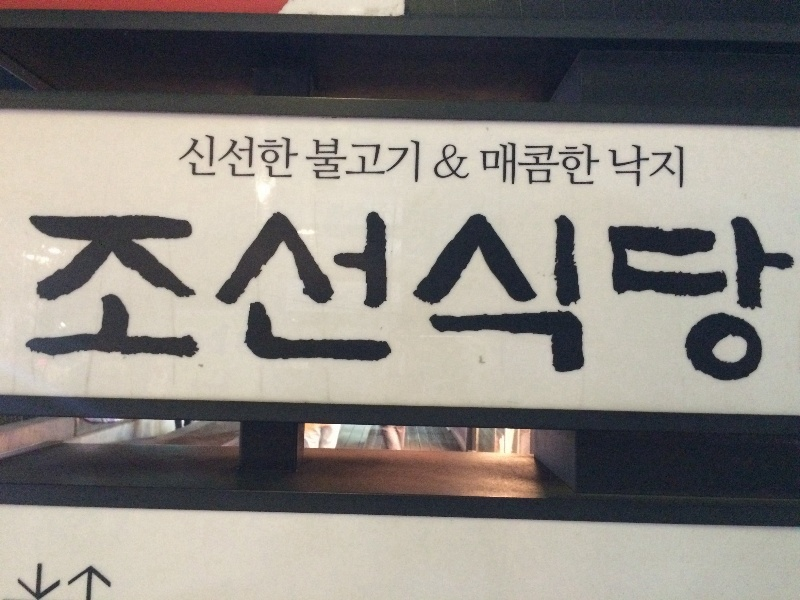text: (33, 211, 48, 381), (49, 211, 64, 381), (65, 211, 80, 381), (81, 211, 96, 381), (97, 211, 112, 381), (113, 211, 128, 381), (129, 211, 144, 381), (145, 211, 160, 381), (161, 211, 176, 381), (177, 211, 192, 381), (193, 211, 208, 381), (209, 211, 224, 381), (225, 211, 240, 381), (241, 211, 256, 381), (257, 211, 272, 381), (273, 211, 288, 381), (289, 211, 304, 381), (305, 211, 320, 381), (321, 211, 336, 381), (337, 211, 352, 381), (353, 211, 368, 381), (369, 211, 384, 381), (385, 211, 400, 381), (401, 211, 416, 381), (417, 211, 432, 381), (433, 211, 448, 381), (449, 211, 464, 381), (465, 211, 480, 381), (481, 211, 496, 381), (497, 211, 512, 381), (513, 211, 528, 381), (529, 211, 544, 381), (545, 211, 560, 381), (561, 211, 576, 381), (577, 211, 592, 381), (593, 211, 608, 381), (609, 211, 624, 381), (625, 211, 640, 381), (641, 211, 656, 381), (657, 211, 672, 381), (673, 211, 688, 381), (689, 211, 704, 381), (705, 211, 720, 381), (721, 211, 736, 381), (737, 211, 752, 381), (753, 211, 768, 381), (769, 211, 784, 381), (785, 211, 798, 381), (305, 136, 320, 187), (321, 136, 336, 187), (337, 136, 352, 187), (353, 136, 368, 187), (369, 136, 384, 187), (385, 136, 400, 187), (401, 136, 416, 187), (193, 133, 208, 181), (209, 133, 224, 181), (225, 133, 240, 181), (241, 133, 256, 181), (257, 133, 272, 181), (273, 133, 288, 181), (481, 141, 496, 188), (497, 141, 512, 188), (513, 141, 528, 188), (529, 141, 544, 188), (545, 141, 560, 188), (561, 141, 576, 188), (577, 141, 592, 188), (593, 141, 608, 188), (609, 143, 624, 189), (625, 143, 640, 189), (641, 143, 656, 189), (657, 143, 672, 189), (28, 211, 32, 381), (449, 143, 464, 181), (673, 143, 684, 189), (289, 133, 299, 181), (439, 143, 448, 181), (465, 143, 472, 181), (187, 133, 192, 181), (417, 136, 421, 187), (478, 141, 480, 188), (606, 143, 608, 189)
